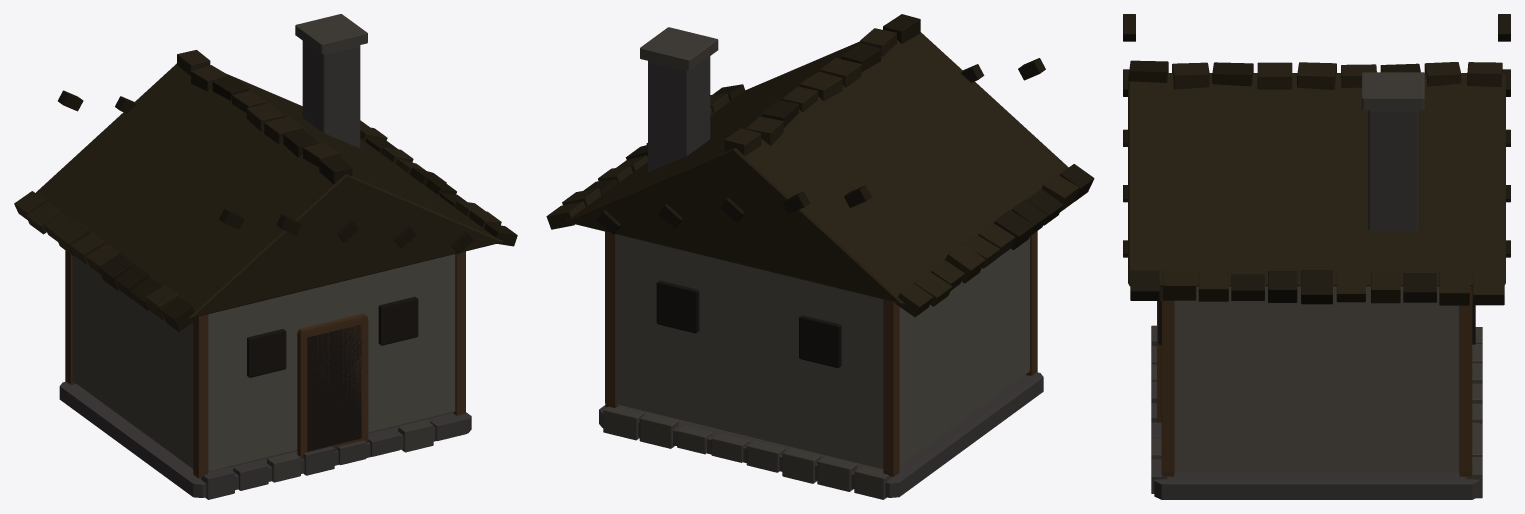
File: house_small.glb
3 views of the same model, side by side, from view 1: azimuth 30°, elevation 25°; view 2: azimuth 150°, elevation 25°; view 3: azimuth 270°, elevation 25° (orthographic). The views are drawn at different scales.
Parts seen in each view (by area): view 1: house_small; view 2: house_small; view 3: house_small.
Part boxes in pixels (x1=…): house_small: x1=14, y1=14, x2=517, y2=499; house_small: x1=546, y1=14, x2=1094, y2=499; house_small: x1=1123, y1=14, x2=1510, y2=499.
Bounding box in the file's own units: 5.84 × 5.42 × 4.82.
